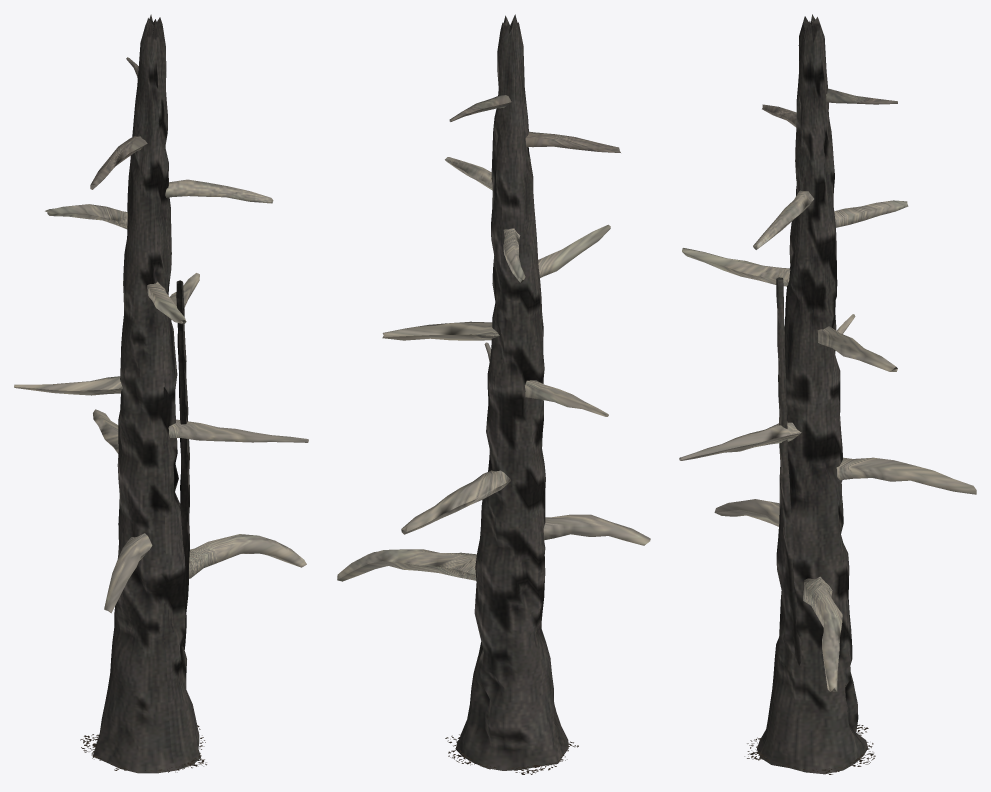
Rendered from tree_blasted_pine.glb.
The picture shows the model from 3 angles, left to right: view 1: azimuth 30°, elevation 25°; view 2: azimuth 150°, elevation 25°; view 3: azimuth 270°, elevation 25°; orthographic projection.
Visible parts, largest first — view 1: tree_blasted_pine; view 2: tree_blasted_pine; view 3: tree_blasted_pine.
Part boxes in pixels (x1,y1,x2,y2): tree_blasted_pine: (14,14,308,773); tree_blasted_pine: (337,14,650,774); tree_blasted_pine: (679,14,976,774).
Bounding box in the file's own units: 1.69 × 4.21 × 1.54.
Materials: 2 (2 with a texture image).
